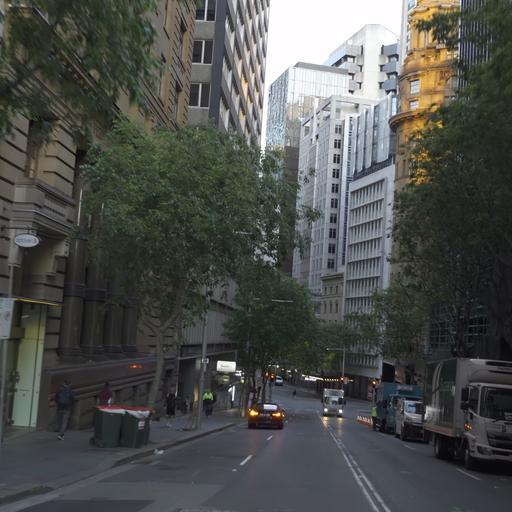Street light: (197, 287, 293, 428), (0, 223, 40, 446), (241, 296, 293, 414), (325, 344, 346, 400)
